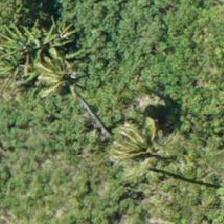coconut_tree: (98, 105, 188, 195), (4, 12, 94, 102)
